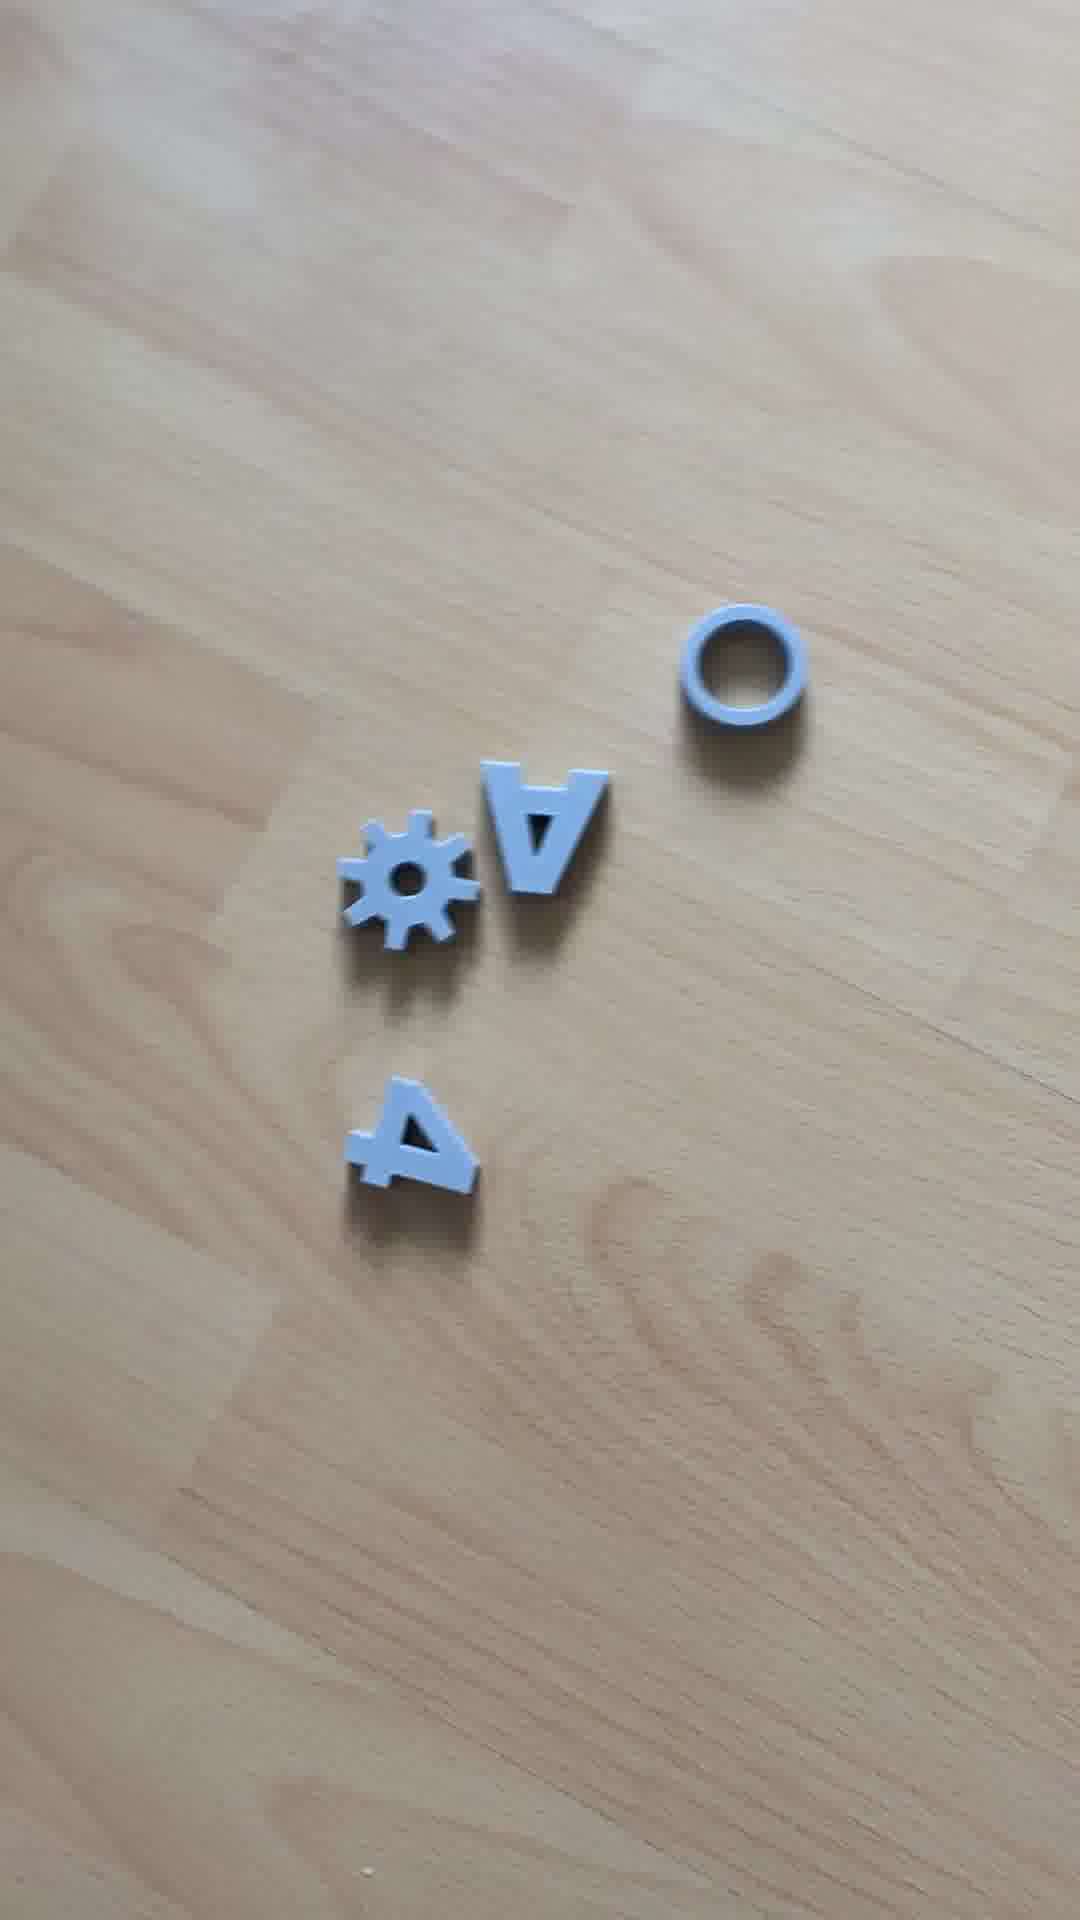Gray A-letter: (477, 757, 611, 909)
Gray four: (334, 1079, 496, 1212)
Gray gear: (331, 806, 488, 957)
Gray ring: (670, 597, 818, 728)
